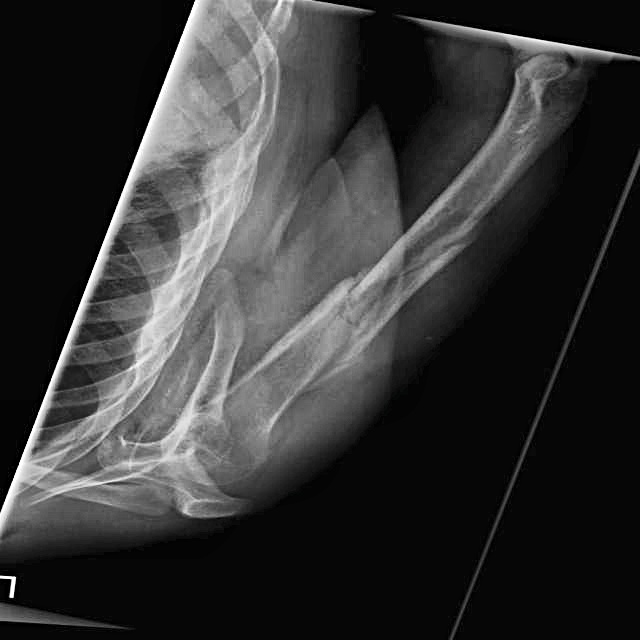Spiral: (280, 241, 437, 395)
